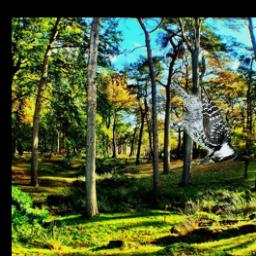Woodpecker: (173, 78, 239, 167)
